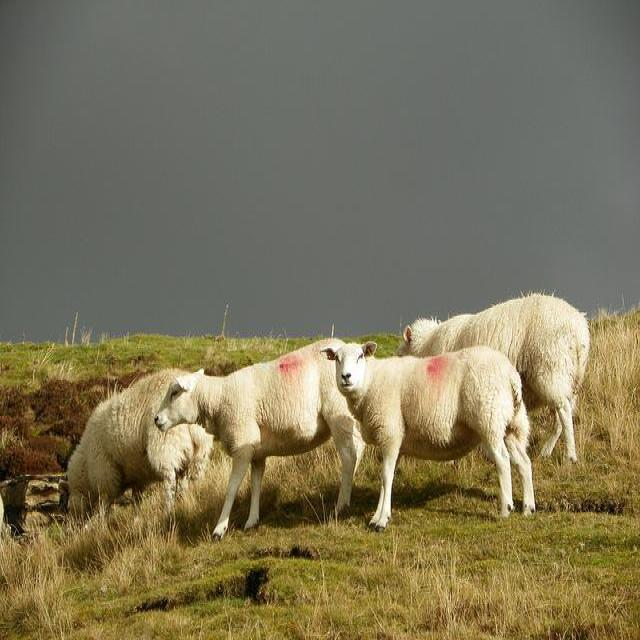Sheep: (156, 336, 368, 543), (326, 338, 537, 530), (396, 294, 591, 466), (66, 367, 213, 529)
